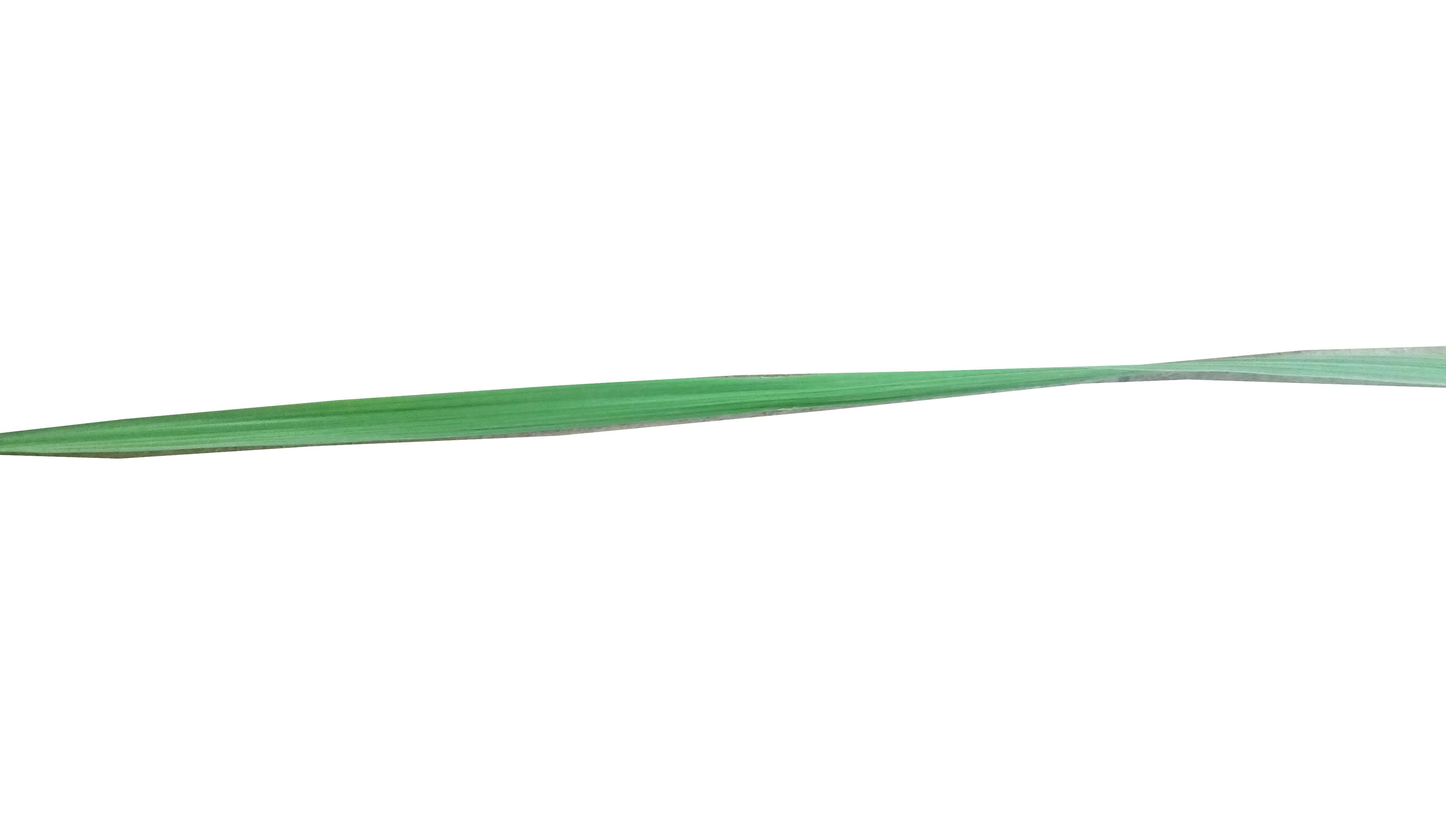Healthy: (0, 381, 1075, 457)
